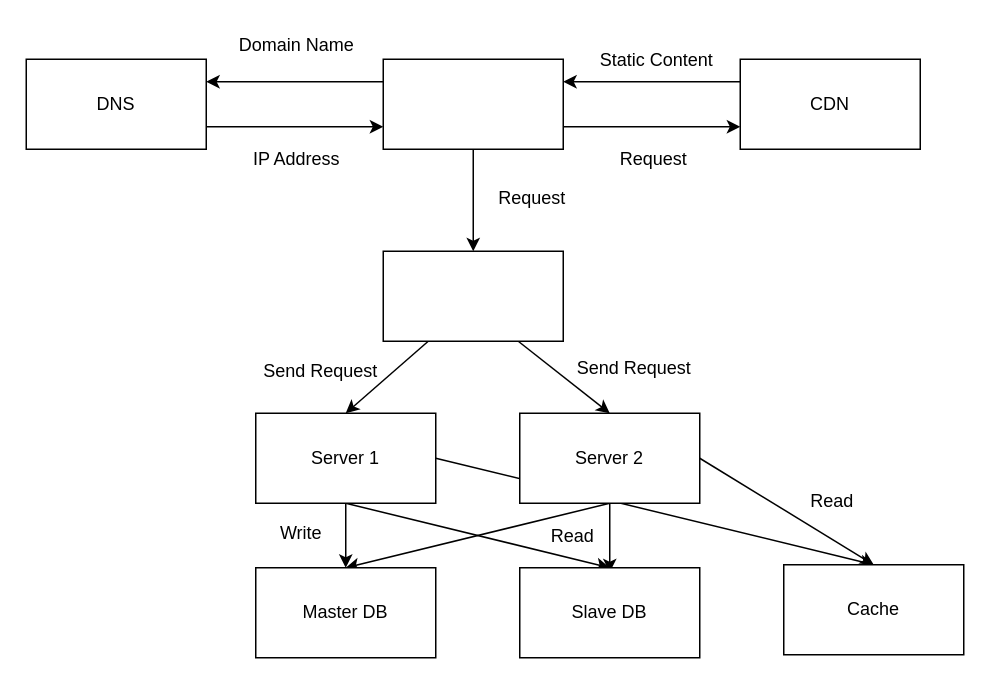
The diagram is 990 pixels wide and 684 high, and some of its shapes have lost their labels. The shapes that lost their labels are listed below. From the top down, each one's box as (x1, y1, x2, y2) in pixels, then its label:
(382, 58, 563, 149): User
(382, 250, 563, 341): Load Balancer
